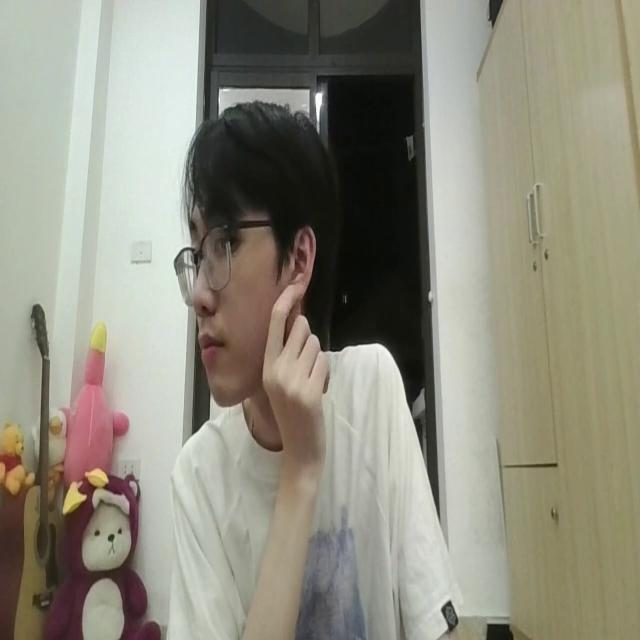student: (166, 90, 457, 640)
